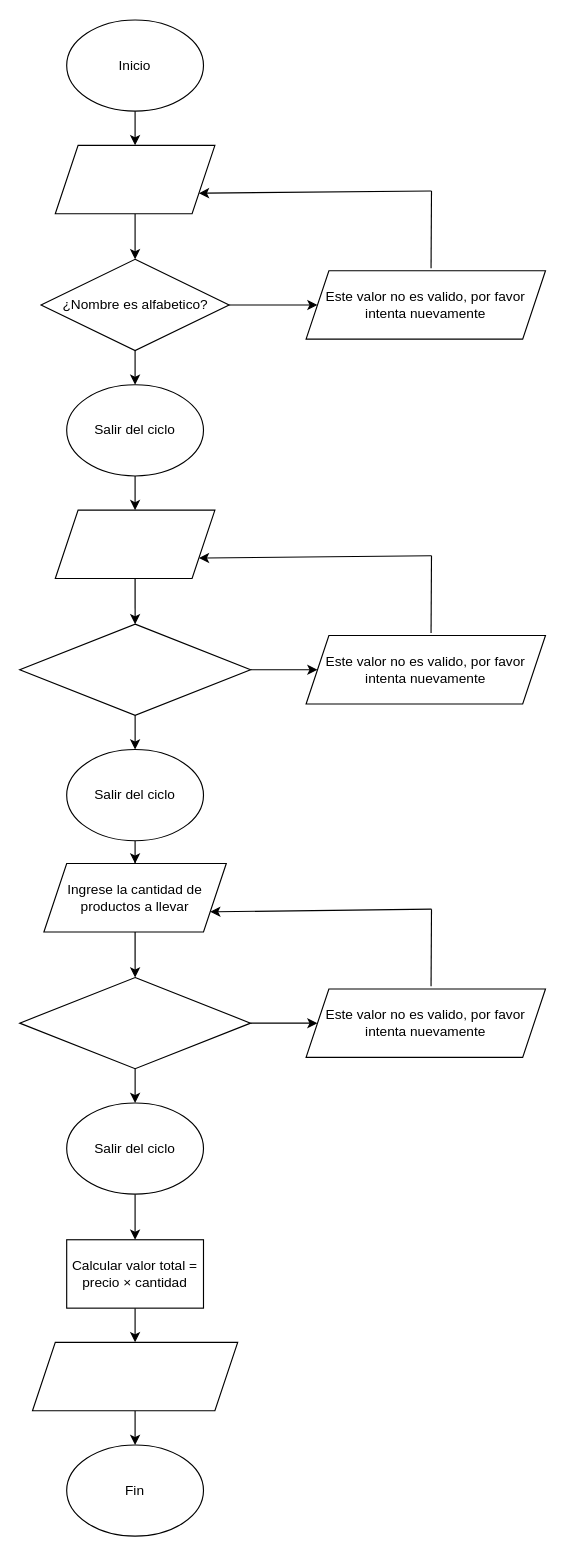
Image size: 567x1556. Some labels were removed from this diagram. Each missing label, with the box of its shape:
Ingrese nombre del producto: (54, 144, 215, 214)
Ingrese precio del producto: (54, 509, 215, 579)
Mostrar producto, cantidad, precio y valor total: (31, 1341, 238, 1411)
¿Cantidad es un numero?: (19, 976, 251, 1069)
¿Precio es un numero valido?: (19, 623, 251, 715)
